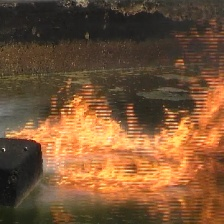fire: (10, 58, 220, 218)
